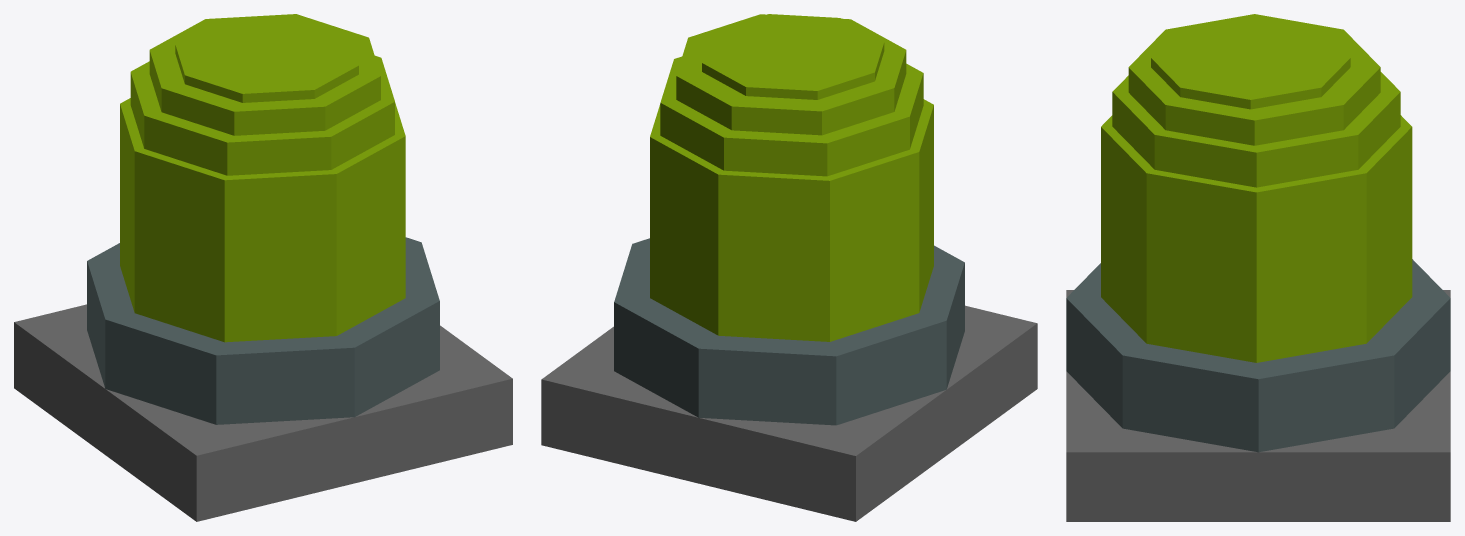
File: LED.glb
The picture shows the model from 3 angles, left to right: view 1: azimuth 30°, elevation 25°; view 2: azimuth 150°, elevation 25°; view 3: azimuth 270°, elevation 25°; orthographic projection. The views are drawn at different scales.
Parts seen in each view (by area): view 1: cylinderVertex (×5), block; view 2: cylinderVertex (×5), block; view 3: cylinderVertex (×5), block.
Boxes of the visible parts, left/top/right/bottom form: cylinderVertex (×5): left=87, top=14, right=439, bottom=424; block: left=14, top=304, right=512, bottom=521; cylinderVertex (×5): left=614, top=14, right=964, bottom=425; block: left=541, top=305, right=1037, bottom=521; cylinderVertex (×5): left=1066, top=14, right=1450, bottom=452; block: left=1066, top=290, right=1450, bottom=521.
Size of the model in its own units: 1 by 1.1 by 1.
